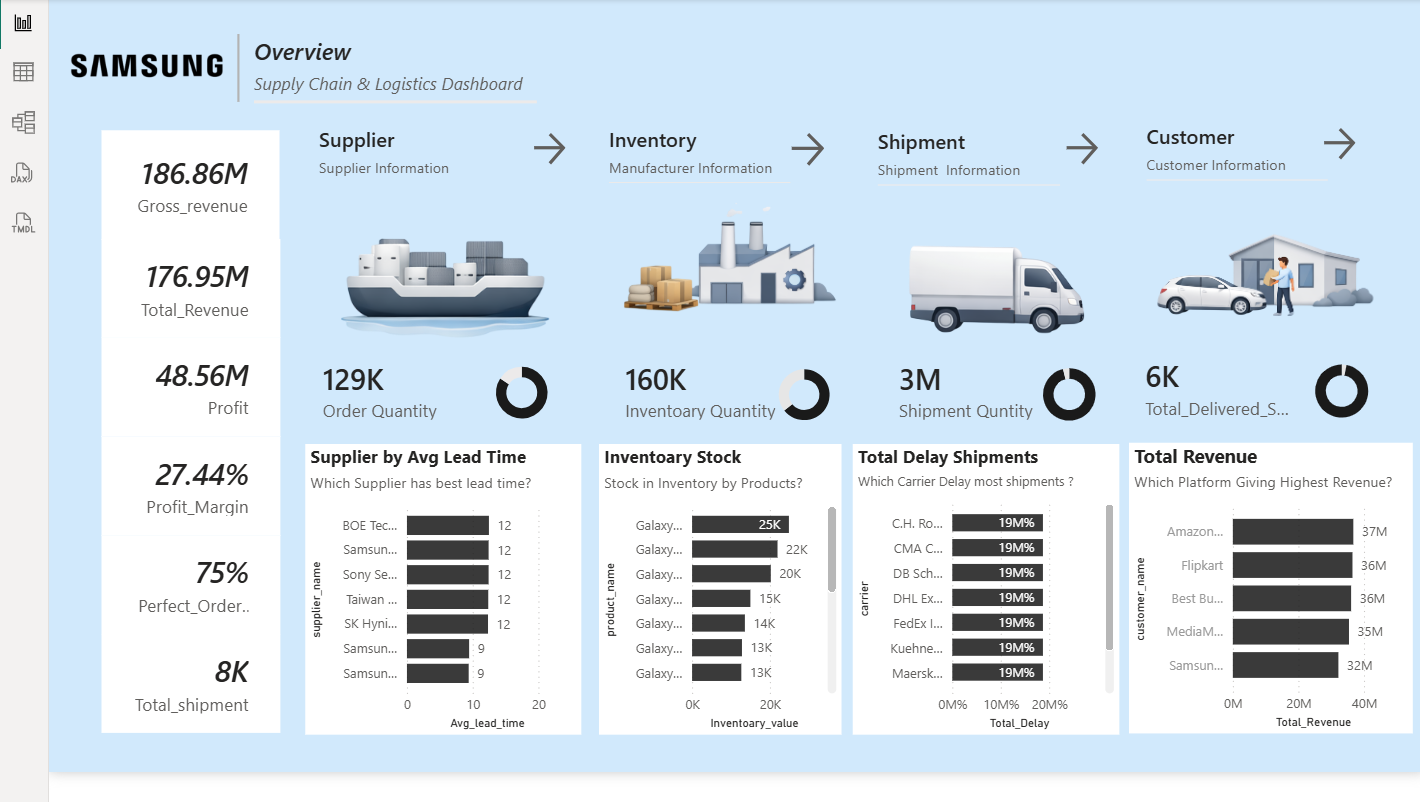

The dashboard page shown, as its layout file describes it:
{"tool":"powerbi","page":{"name":"Overview","canvas":[1280,720],"ordinal":1},"visuals":[{"type":"shape","box":[512.4,110.8,227.4,211.6],"z":0},{"type":"shape","box":[235.5,110.1,255.6,215.2],"z":1000},{"type":"shape","box":[1012,110.1,227.4,215.2],"z":2000},{"type":"shape","box":[763.5,109.3,227.4,214],"z":3000},{"type":"image","box":[249.5,137,227.4,240.9],"z":4000},{"type":"image","box":[1022.3,167.5,228.7,172.4],"z":5000},{"type":"image","box":[785.1,151.6,188.3,223.8],"z":6000},{"type":"image","box":[512.4,111.3,227.4,250.7],"z":7000},{"type":"actionButton","box":[445.1,119.8,100.3,39.1],"z":8000},{"type":"actionButton","box":[684.8,119.8,100.3,40.4],"z":9000},{"type":"actionButton","box":[940.4,119.8,99,39.1],"z":10000},{"type":"actionButton","box":[1180,114.9,100.3,39.1],"z":11000},{"type":"shape","title":"Supplier","box":[250.6,117.3,169.1,53.1],"z":12000},{"type":"shape","title":"Customer","box":[1021.1,114.9,168.8,53.8],"z":13000},{"type":"shape","title":"Shipment ","box":[770.9,120.3,170,53.8],"z":14000},{"type":"shape","title":"Inventory","box":[520.4,117.8,168.8,53.5],"z":15000},{"type":"shape","title":"Overview","box":[190.1,33.3,263,63],"z":16000},{"type":"shape","box":[156.4,32.9,38.4,63.1],"z":17000},{"type":"image","box":[9.6,35.7,156.4,50.8],"z":18000},{"type":"cardVisual","fields":{"Data":["Sum(fact_sales.gross_revenue)"]},"box":[49.4,122.2,165.4,101.2],"z":19000},{"type":"cardVisual","fields":{"Data":["MeasureTable.Total_Revenue"]},"box":[48.4,223.8,166.3,91.7],"z":20000},{"type":"cardVisual","fields":{"Data":["MeasureTable.Profit"]},"box":[48.4,315.5,166.3,91.7],"z":21000},{"type":"cardVisual","fields":{"Data":["MeasureTable.Profit_Margin %"]},"box":[48.4,407.2,166.3,91.7],"z":22000},{"type":"cardVisual","fields":{"Data":["MeasureTable.Perfect_Order_%"]},"box":[48.4,498.9,166.3,91.7],"z":23000},{"type":"cardVisual","fields":{"Data":["MeasureTable.Total_shipment"]},"box":[48.4,590.6,166.3,91.7],"z":24000},{"type":"shape","box":[239.5,334.6,255.6,63],"z":25000},{"type":"shape","box":[512.4,337.5,227.4,59.9],"z":26000},{"type":"shape","box":[764.8,339,227.4,59.9],"z":27000},{"type":"shape","box":[1012.5,330.2,227.4,66],"z":28000},{"type":"cardVisual","fields":{"Data":["MeasureTable.Order_qty"]},"box":[225,319.2,195.7,90.5],"z":29000},{"type":"cardVisual","fields":{"Data":["MeasureTable.Inventoary_value"]},"box":[507.4,318.5,218.5,90.1],"z":30000},{"type":"cardVisual","fields":{"Data":["MeasureTable.Total_Shipment_Quntity"]},"box":[761.7,318.5,243.2,90.1],"z":31000},{"type":"cardVisual","fields":{"Data":["MeasureTable.Total_Delivered_Quantity"]},"box":[990.5,314.3,199.3,95.4],"z":32000},{"type":"clusteredBarChart","title":"Supplier by Avg Lead Time ","fields":{"Category":["dim_supplier.supplier_name"],"Y":["MeasureTable.Avg_lead_time"]},"box":[238.3,413.6,256.8,270.4],"z":33000},{"type":"clusteredBarChart","title":"Inventoary Stock","fields":{"Category":["dim_product.product_name"],"Y":["MeasureTable.Inventoary_value"]},"box":[511.1,413.6,225.9,270.4],"z":34000},{"type":"clusteredBarChart","title":"Total Delay Shipments ","fields":{"Category":["fact_shipment.carrier"],"Y":["MeasureTable.Total_Delay"]},"box":[748.1,413.6,248.1,270.4],"z":35000},{"type":"clusteredBarChart","title":"Total Revenue","fields":{"Category":["dim_customer.customer_name"],"Y":["MeasureTable.Total_Revenue"]},"box":[1004.9,412.3,264.2,270.4],"z":36000},{"type":"donutChart","fields":{"Y":["MeasureTable.Inventoary_value","MeasureTable.Saftey_stock"]},"box":[666.7,333.3,72.8,69.1],"z":37000},{"type":"donutChart","fields":{"Y":["MeasureTable.Total_Delay","MeasureTable.Total_shipment"]},"box":[912.2,332.6,73,70.9],"z":38000},{"type":"donutChart","fields":{"Y":["MeasureTable.Total_Delivered_Quantity","MeasureTable.Total_Delay"]},"box":[1166.7,329.6,72.8,71.6],"z":39000},{"type":"donutChart","fields":{"Y":["MeasureTable.Order_qty","MeasureTable.Defect_rate"]},"box":[403.7,330.9,73,70],"z":40000}]}

Visuals, with their boxes on the page's 1280x720 design canvas (x1, y1, x2, y2). These are canvas units, not pixel positions in the 1420x802 screenshot, which may show the page scaled, cropped or inside an application window:
shape: crop(512, 111, 740, 322)
shape: crop(236, 110, 491, 325)
shape: crop(1012, 110, 1239, 325)
shape: crop(764, 109, 991, 323)
image: crop(250, 137, 477, 378)
image: crop(1022, 168, 1251, 340)
image: crop(785, 152, 973, 375)
image: crop(512, 111, 740, 362)
actionButton: crop(445, 120, 545, 159)
actionButton: crop(685, 120, 785, 160)
actionButton: crop(940, 120, 1039, 159)
actionButton: crop(1180, 115, 1280, 154)
"Supplier" shape: crop(251, 117, 420, 170)
"Customer" shape: crop(1021, 115, 1190, 169)
"Shipment " shape: crop(771, 120, 941, 174)
"Inventory" shape: crop(520, 118, 689, 171)
"Overview" shape: crop(190, 33, 453, 96)
shape: crop(156, 33, 195, 96)
image: crop(10, 36, 166, 86)
cardVisual - Sum(fact_sales.gross_revenue): crop(49, 122, 215, 223)
cardVisual - MeasureTable.Total_Revenue: crop(48, 224, 215, 316)
cardVisual - MeasureTable.Profit: crop(48, 316, 215, 407)
cardVisual - MeasureTable.Profit_Margin %: crop(48, 407, 215, 499)
cardVisual - MeasureTable.Perfect_Order_%: crop(48, 499, 215, 591)
cardVisual - MeasureTable.Total_shipment: crop(48, 591, 215, 682)
shape: crop(240, 335, 495, 398)
shape: crop(512, 338, 740, 397)
shape: crop(765, 339, 992, 399)
shape: crop(1012, 330, 1240, 396)
cardVisual - MeasureTable.Order_qty: crop(225, 319, 421, 410)
cardVisual - MeasureTable.Inventoary_value: crop(507, 318, 726, 409)
cardVisual - MeasureTable.Total_Shipment_Quntity: crop(762, 318, 1005, 409)
cardVisual - MeasureTable.Total_Delivered_Quantity: crop(990, 314, 1190, 410)
"Supplier by Avg Lead Time " clusteredBarChart: crop(238, 414, 495, 684)
"Inventoary Stock" clusteredBarChart: crop(511, 414, 737, 684)
"Total Delay Shipments " clusteredBarChart: crop(748, 414, 996, 684)
"Total Revenue" clusteredBarChart: crop(1005, 412, 1269, 683)
donutChart - MeasureTable.Inventoary_value x MeasureTable.Saftey_stock: crop(667, 333, 740, 402)
donutChart - MeasureTable.Total_Delay x MeasureTable.Total_shipment: crop(912, 333, 985, 404)
donutChart - MeasureTable.Total_Delivered_Quantity x MeasureTable.Total_Delay: crop(1167, 330, 1240, 401)
donutChart - MeasureTable.Order_qty x MeasureTable.Defect_rate: crop(404, 331, 477, 401)
